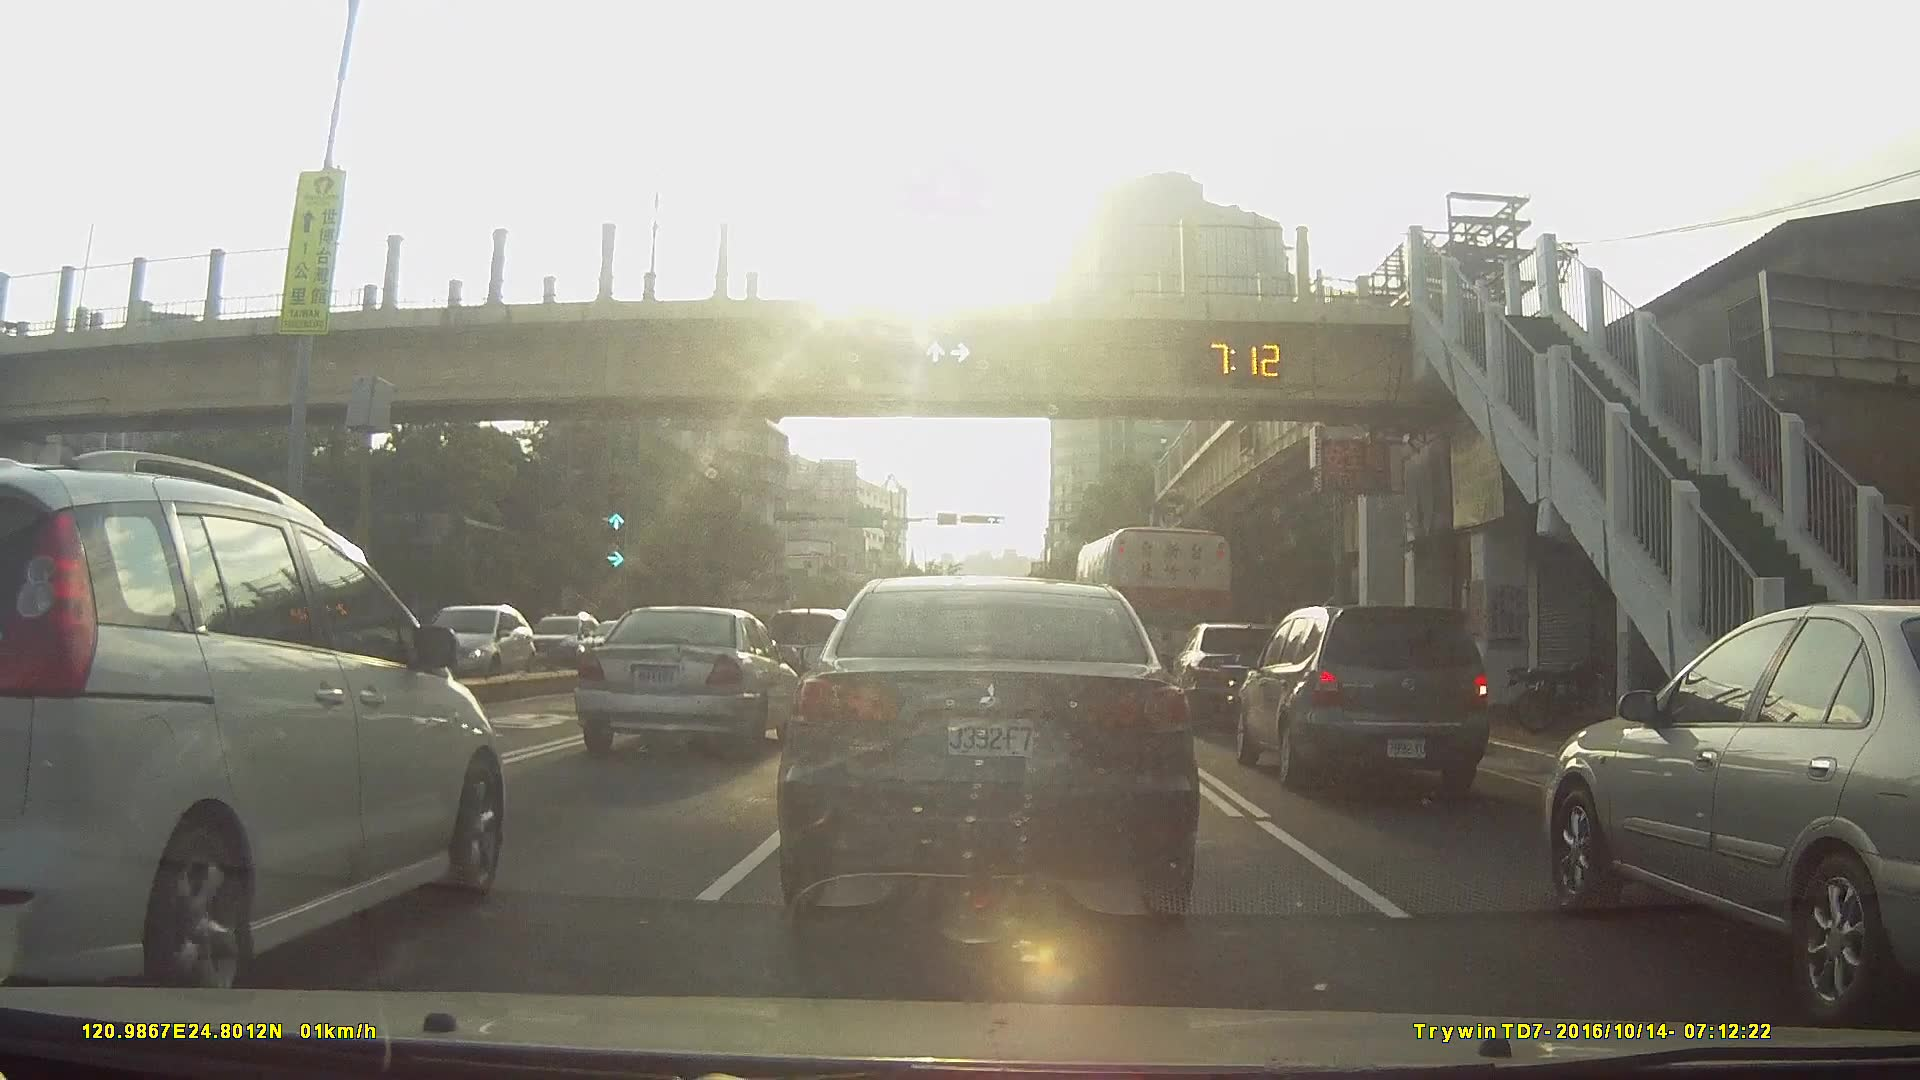vehicle: (0, 452, 516, 1009), (1545, 597, 1920, 1029), (785, 574, 1200, 928), (1233, 605, 1491, 794), (582, 604, 810, 756), (1171, 622, 1298, 727), (419, 601, 546, 678), (744, 604, 844, 700), (516, 611, 620, 679), (564, 617, 659, 676)
